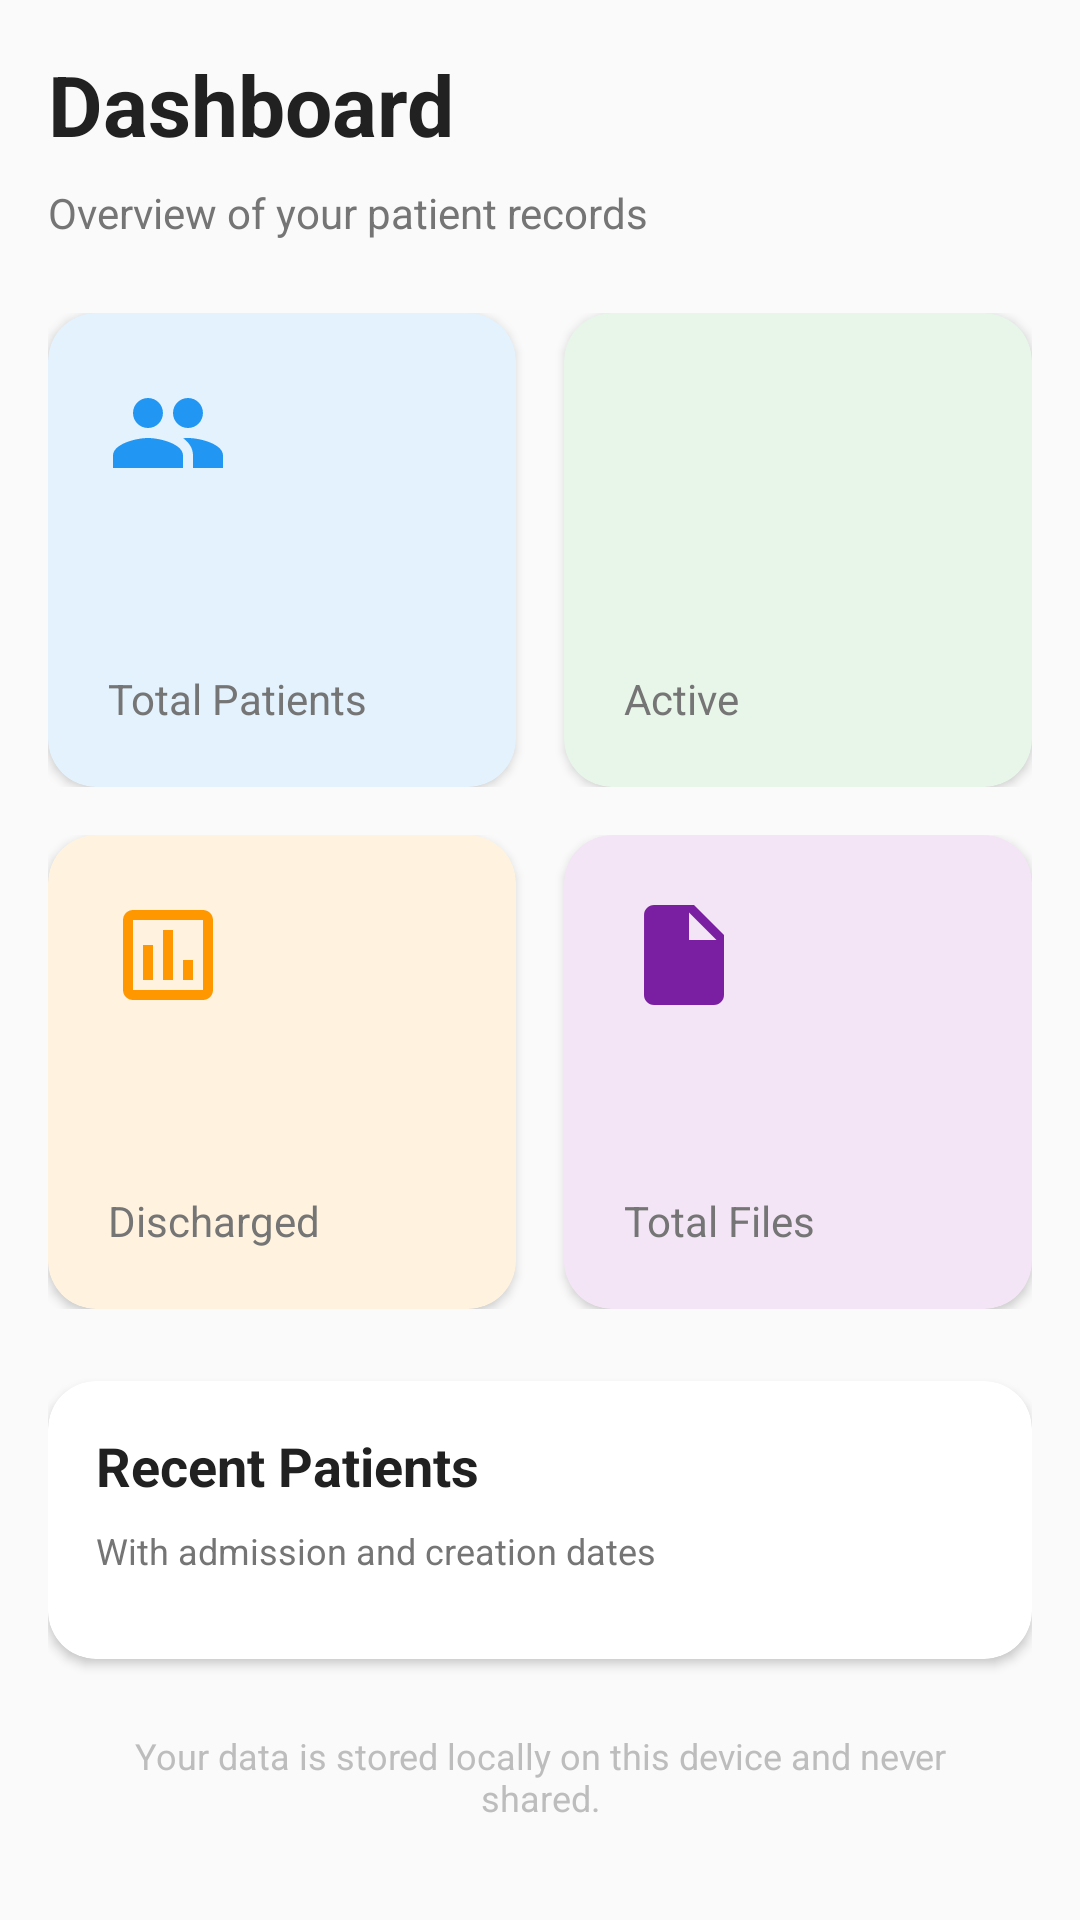

Icons on this 1080w x 1920h Android screen, each with the point to tap as [x,y]:
Files icon: [684,955]
Patients icon: [168,433]
